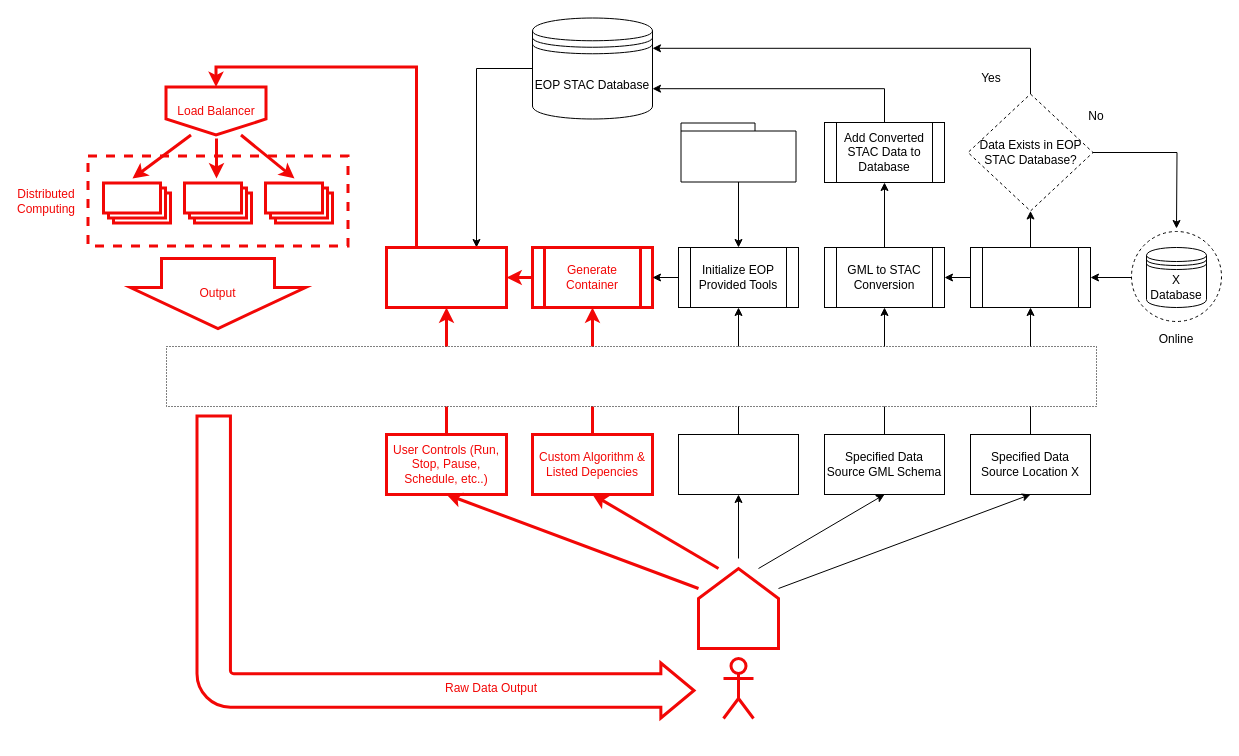
Image size: 1239x756. Some labels were removed from this diagram. Here are the shapes that lost their labels. From the top down, the centre of each, then its label:
At [738,152]: "EOP Data Processing Libraries".
At [446,277]: "Data Processing Manager".
At [1030,277]: "Download Data".
At [631,376]: "Front Facing UI".
At [738,464]: "Specified EOP Provided Tools".
At [738,608]: "User Input".
At [738,688]: "Data Scientists".
